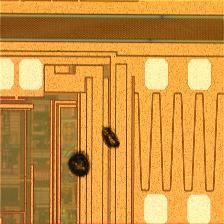PARTICLE: (67, 123, 124, 179)
